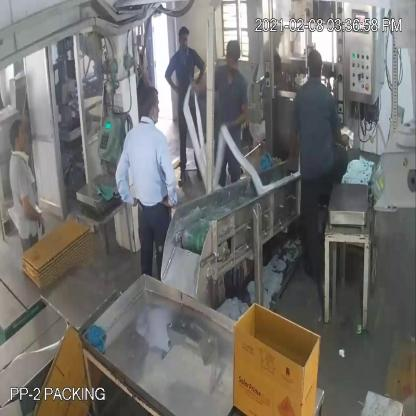no_glove: (157, 143, 182, 219), (21, 186, 50, 245), (114, 144, 139, 211), (227, 101, 256, 129), (288, 115, 300, 176), (163, 64, 178, 97), (193, 58, 206, 89)
